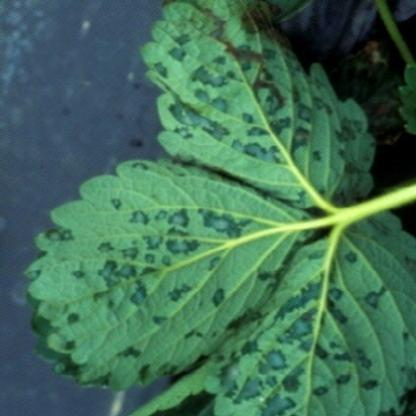Strawberry_Angular_LeafSpot: (19, 156, 323, 392), (128, 210, 415, 415), (137, 0, 378, 210)
